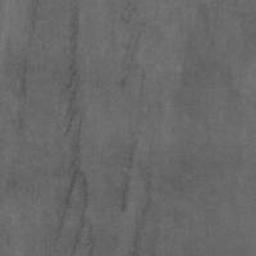Water spot: (50, 0, 96, 256), (131, 160, 160, 256), (122, 137, 140, 212)
